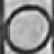no answer: (4, 1, 54, 54)
